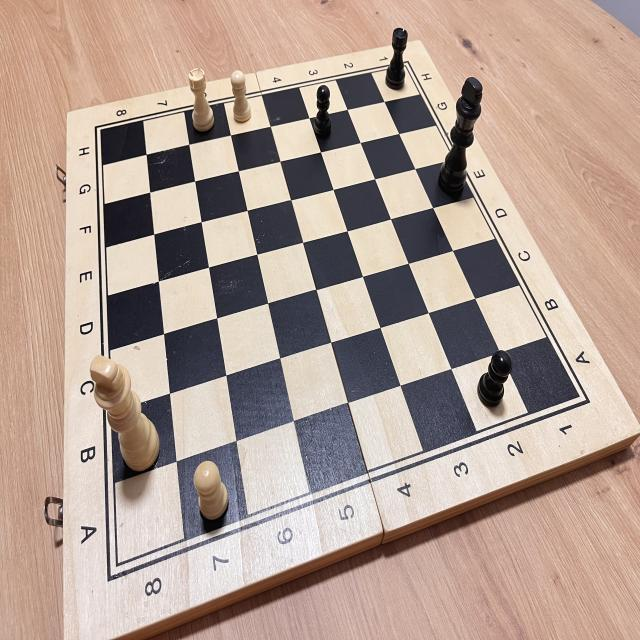black-king: (433, 69, 494, 200)
black-pawn: (475, 339, 516, 414), (305, 81, 337, 141)
black-rook: (380, 21, 413, 98)
white-king: (83, 348, 171, 487)
white-pawn: (191, 453, 233, 525), (226, 66, 258, 128)
white-rook: (183, 66, 221, 136)
